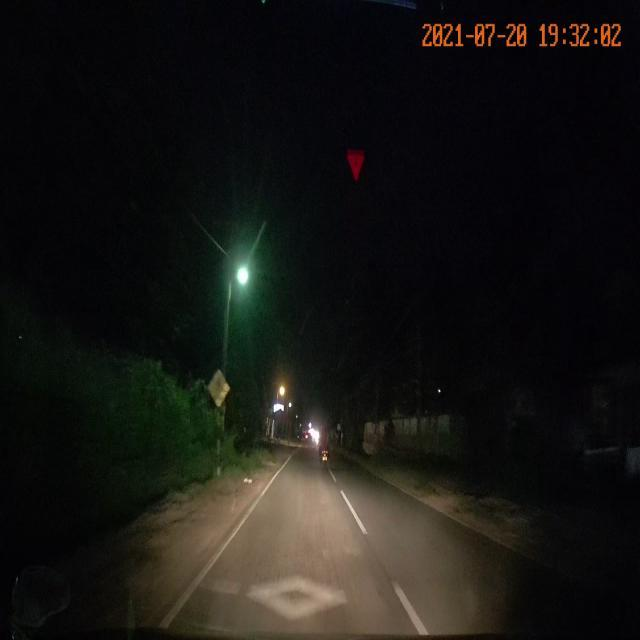diamond: (159, 539, 434, 635)
